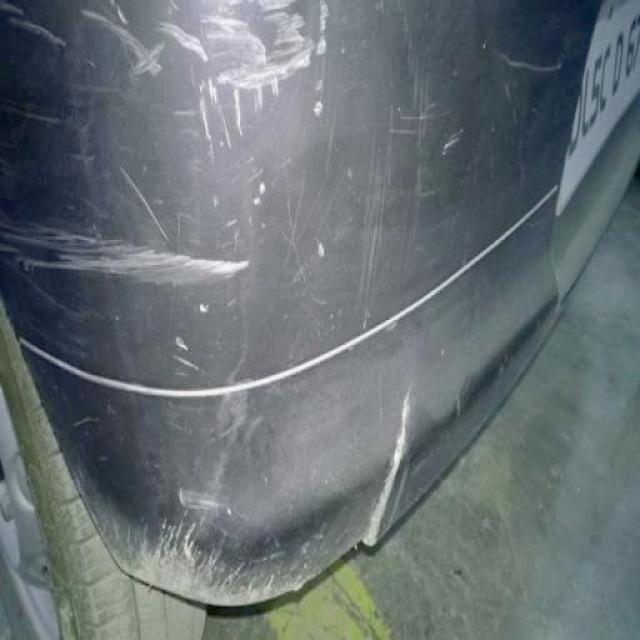car damage: (0, 166, 590, 217), (0, 404, 459, 406), (0, 0, 227, 4)
